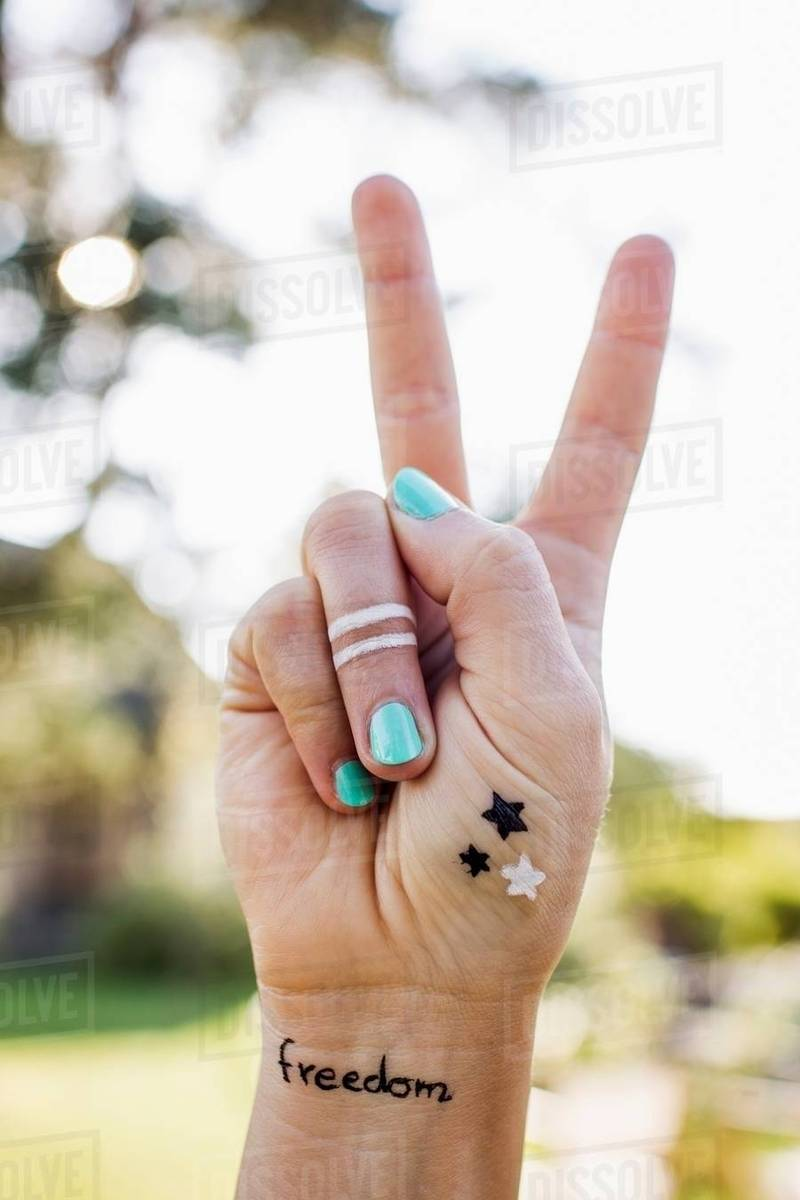peacesign: (318, 173, 694, 673)
